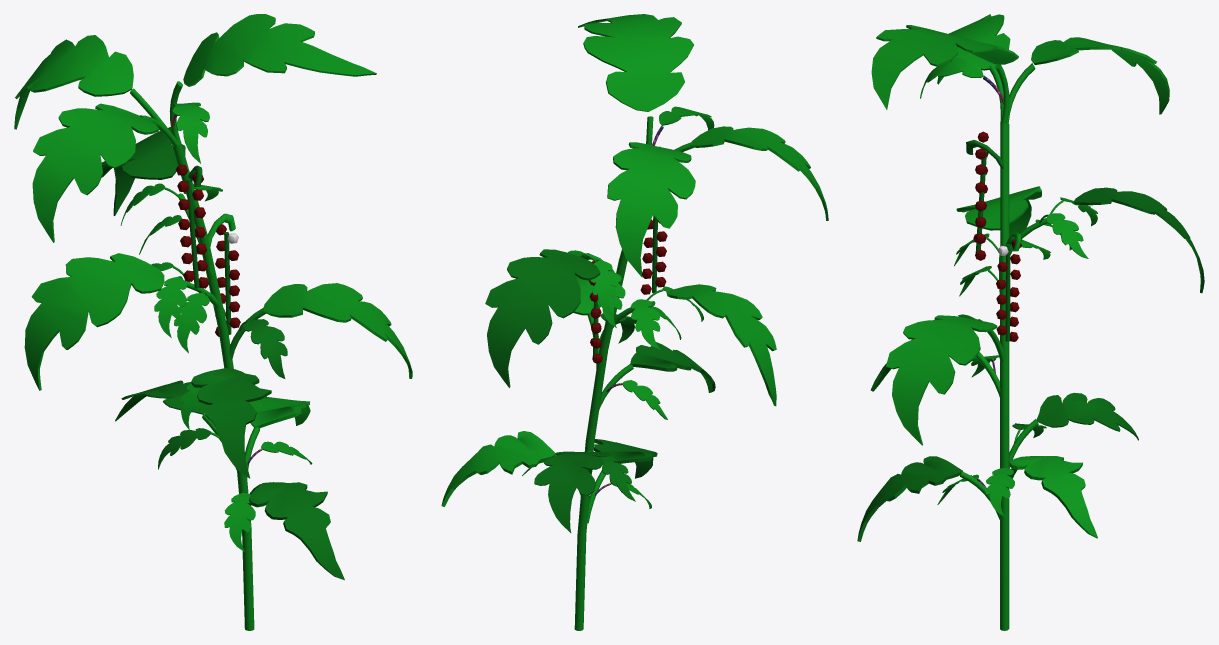
The model's file is 番茄成熟.FBX.
3 views of the same model, side by side, from view 1: azimuth 30°, elevation 25°; view 2: azimuth 150°, elevation 25°; view 3: azimuth 270°, elevation 25° (orthographic). The views are drawn at different scales.
Visible parts, largest first — view 1: Line018, Line005, Line006, Line007, Line023, Line004, Line002, Cylinder007, Line012, Line013, Line009, Line011 (+6 smaller); view 2: Line012, Line006, Line007, Line018, Line003, Line013, Cylinder007, Line005, Line023, Line002, Line021, Line016 (+3 smaller); view 3: Line004, Line006, Cylinder007, Line013, Line007, Line003, Line002, Line012, Line018, Line005, Line014, Line015 (+2 smaller).
Part boxes in pixels (x1,y1,x2,y2): Line018: (24,253,164,390); Line005: (32,103,158,242); Line006: (183,14,376,86); Line007: (14,35,133,129); Line023: (191,368,271,478); Line004: (263,283,412,378); Line002: (249,482,344,580); Cylinder007: (172,141,254,630); Line012: (101,127,185,215); Line013: (248,396,310,428); Line009: (244,319,287,378); Line011: (172,102,209,163); Line012: (485,249,600,387); Line006: (578,14,693,111); Line007: (607,142,695,277); Line018: (666,284,776,406); Line003: (534,451,610,532); Line013: (441,431,555,506); Cylinder007: (574,249,627,630); Line005: (690,126,828,220); Line023: (630,342,715,392); Line002: (594,439,657,478); Line021: (630,299,660,349); Line016: (590,260,618,316); Line004: (886,315,997,445); Line006: (871,25,1018,109); Cylinder007: (1000,123,1009,630); Line013: (1009,456,1097,538); Line007: (1031,37,1169,114); Line003: (1036,392,1138,440); Line002: (857,456,962,541); Line012: (1073,187,1204,293); Line018: (956,186,1041,237); Line005: (937,14,1010,84); Line014: (985,468,1014,516); Line015: (1046,213,1088,258).
Bounding box in the file's own units: 54.1 × 89.82 × 48.55.
4 materials, 1 textured.
